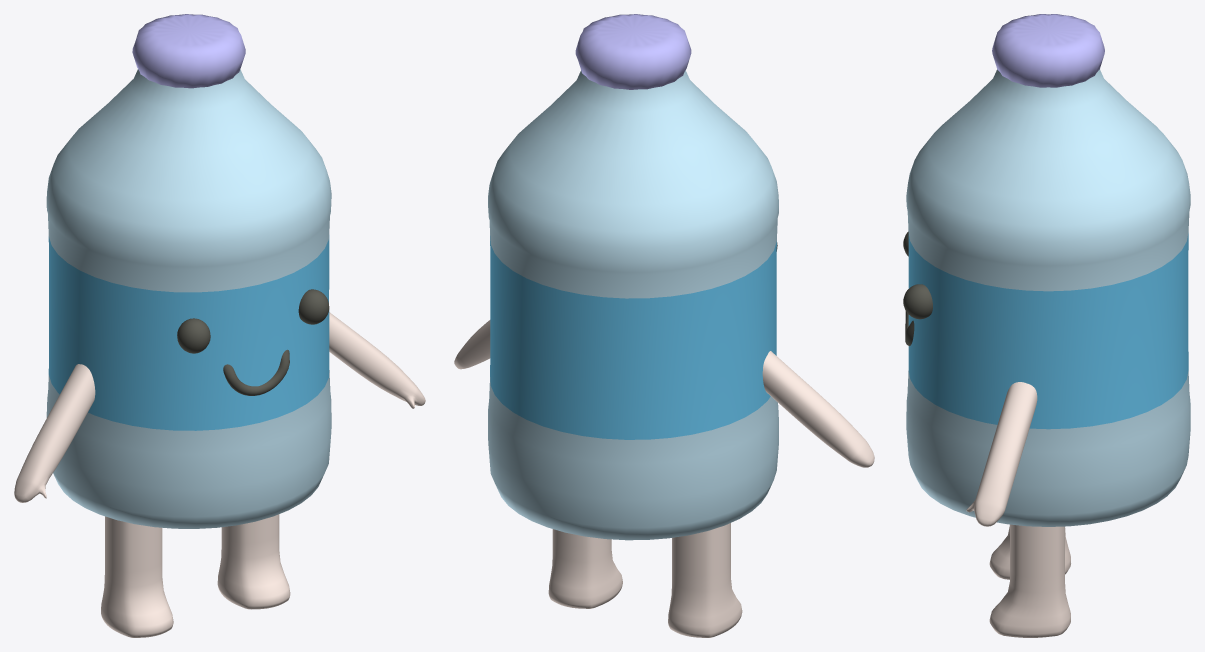
File: pet.glb
3 renders of one model, left to right at view 1: azimuth 30°, elevation 25°; view 2: azimuth 150°, elevation 25°; view 3: azimuth 270°, elevation 25°, orthographic. The views are drawn at different scales.
Parts seen in each view (by area): view 1: pet; view 2: pet; view 3: pet.
Boxes of the visible parts, x1,y1,x2,y2 form: pet: (14,14,425,637); pet: (454,14,874,637); pet: (903,14,1190,637).
Bounding box in the file's own units: 0.8196 × 1.1 × 0.5034.
1 material, 1 textured.
